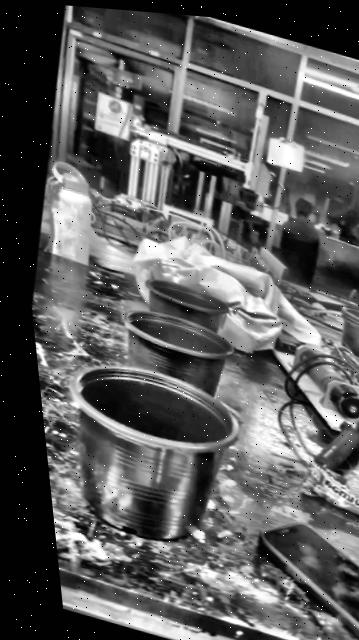pot: (43, 345, 257, 560), (122, 309, 232, 395), (144, 278, 226, 330), (327, 307, 359, 377)
